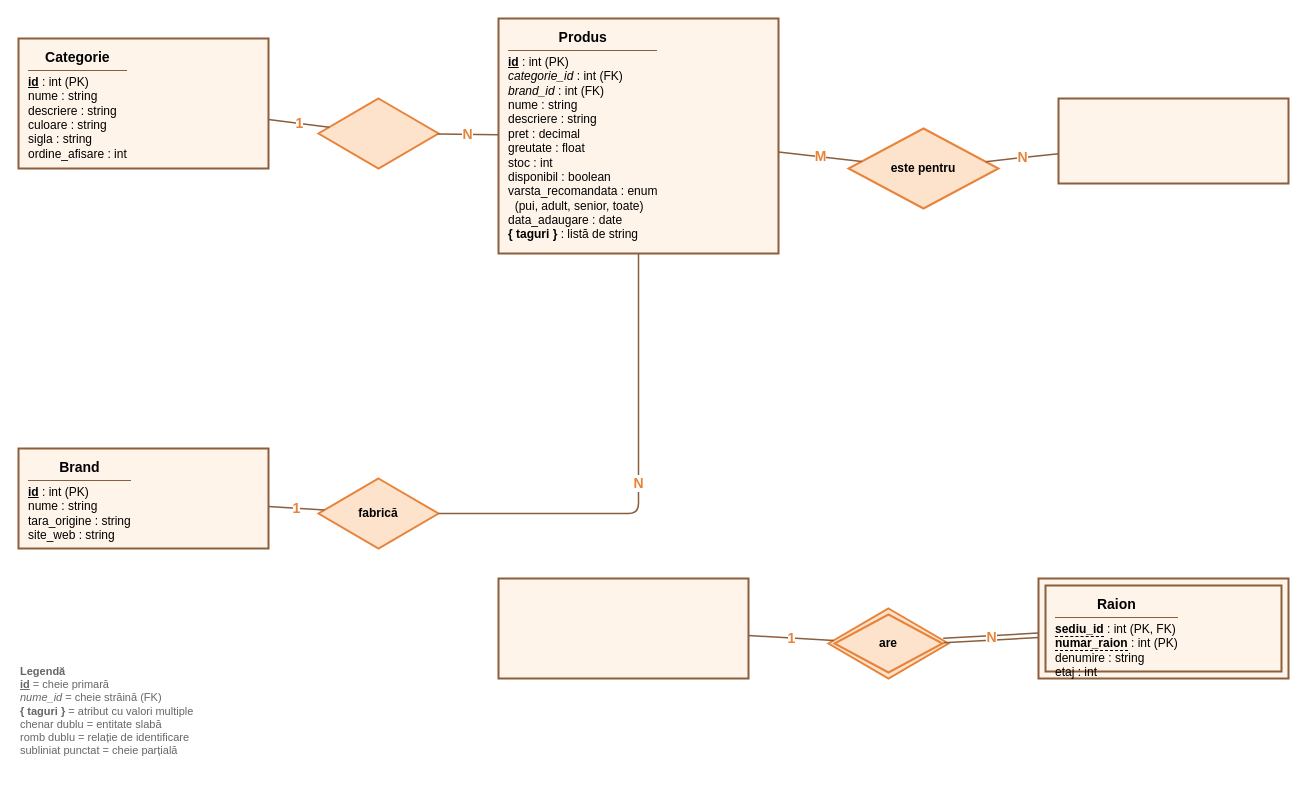
Image size: 1306x805. Some labels were removed from this diagram. Each missing label, with the centre of its shape:
conține: pixel 378 133
Sediu id : int (PK) nume : string adresa : string telefon : string: pixel 623 628
Specie id : int (PK) nume : string descriere : string: pixel 1173 140
